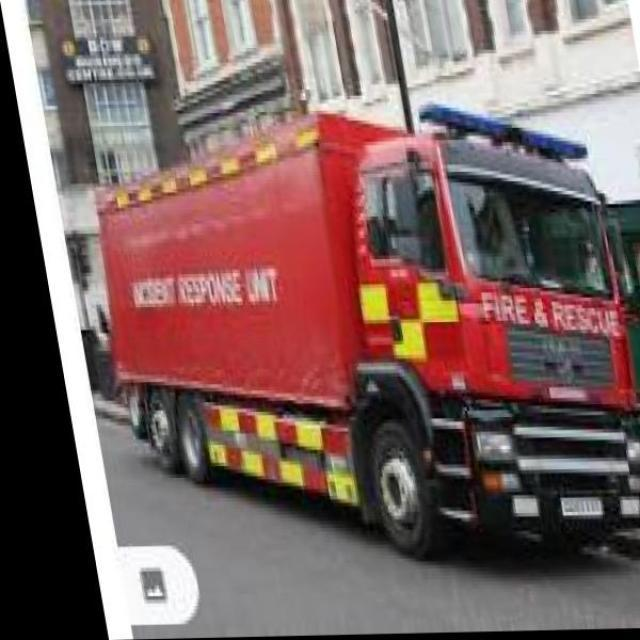emergency: (90, 100, 638, 560)
